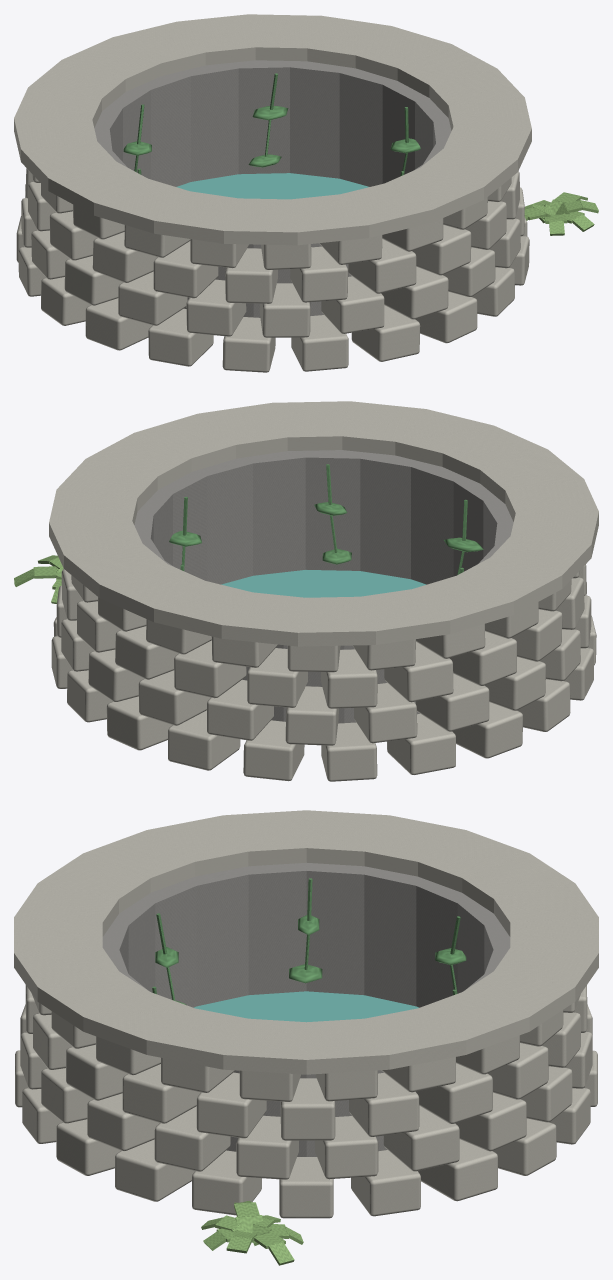
Rendered from jungle-temple-and-stone-city-cenote-well-head-9ea87aee__36134.glb.
3 views of the same model, one above another, from view 1: azimuth 30°, elevation 25°; view 2: azimuth 150°, elevation 25°; view 3: azimuth 270°, elevation 25° (orthographic). The views are drawn at different scales.
Visible parts, largest first — view 1: cenote-well-head; view 2: cenote-well-head; view 3: cenote-well-head.
Part boxes in pixels (x1,y1,x2,y2): cenote-well-head: (14,14,598,372); cenote-well-head: (14,401,598,781); cenote-well-head: (14,810,598,1265).
Size of the model in its own units: 5.13 by 1.35 by 4.32.
6 materials, 5 textured.
